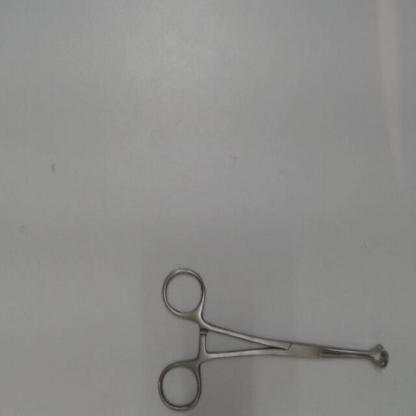Babcock Tissue Forceps: (152, 262, 396, 414)
